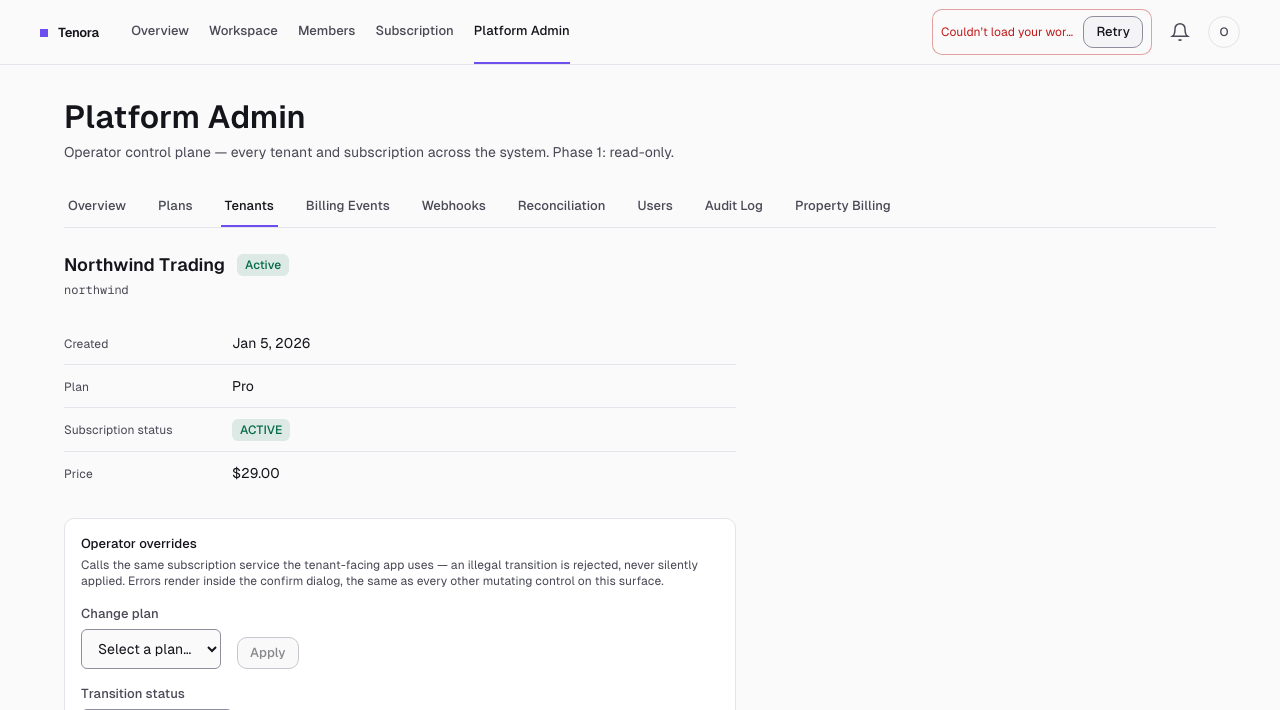
TenantDetailPage — subscription override controls (Phase 2) › canceling the confirm modal makes no request
Expected: the heading "Northwind Trading" is shown, [64,252,225,278]
Select "Team" in the dropdown labelled "Change plan": (151,649) [81,629,221,669]
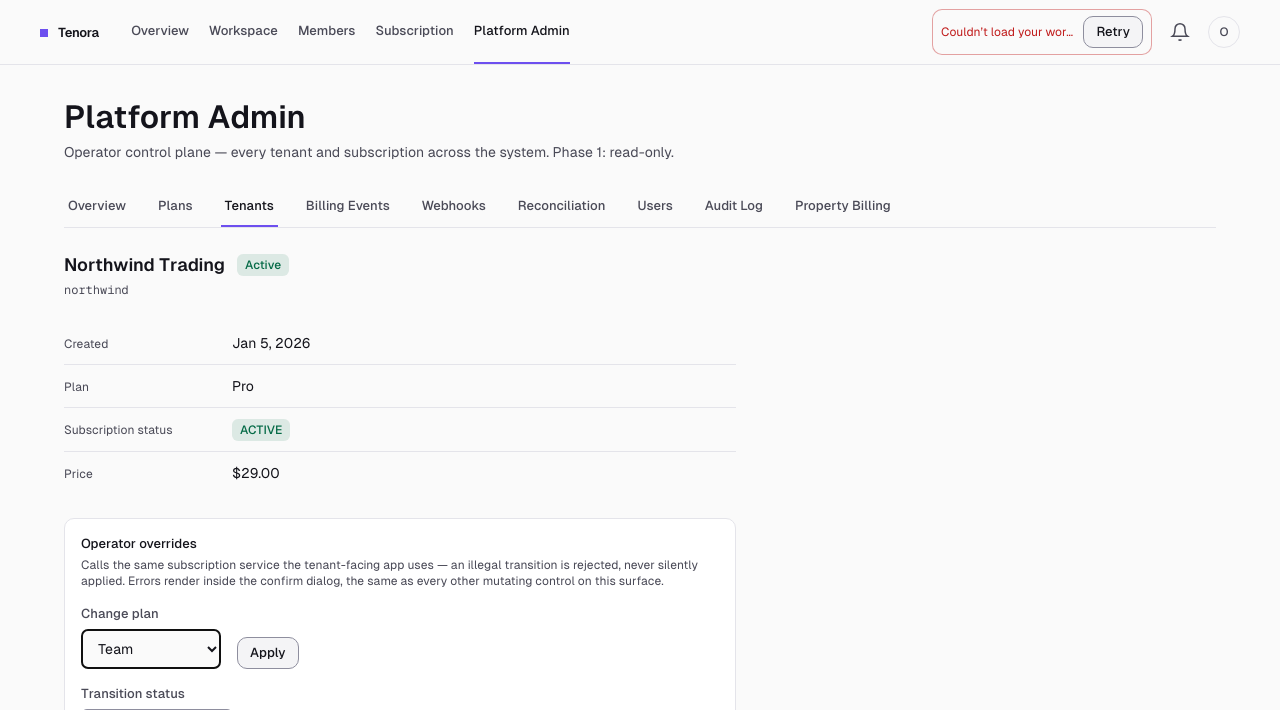
Click the button "Apply" below "Change plan": (268,653) [237,637,299,669]
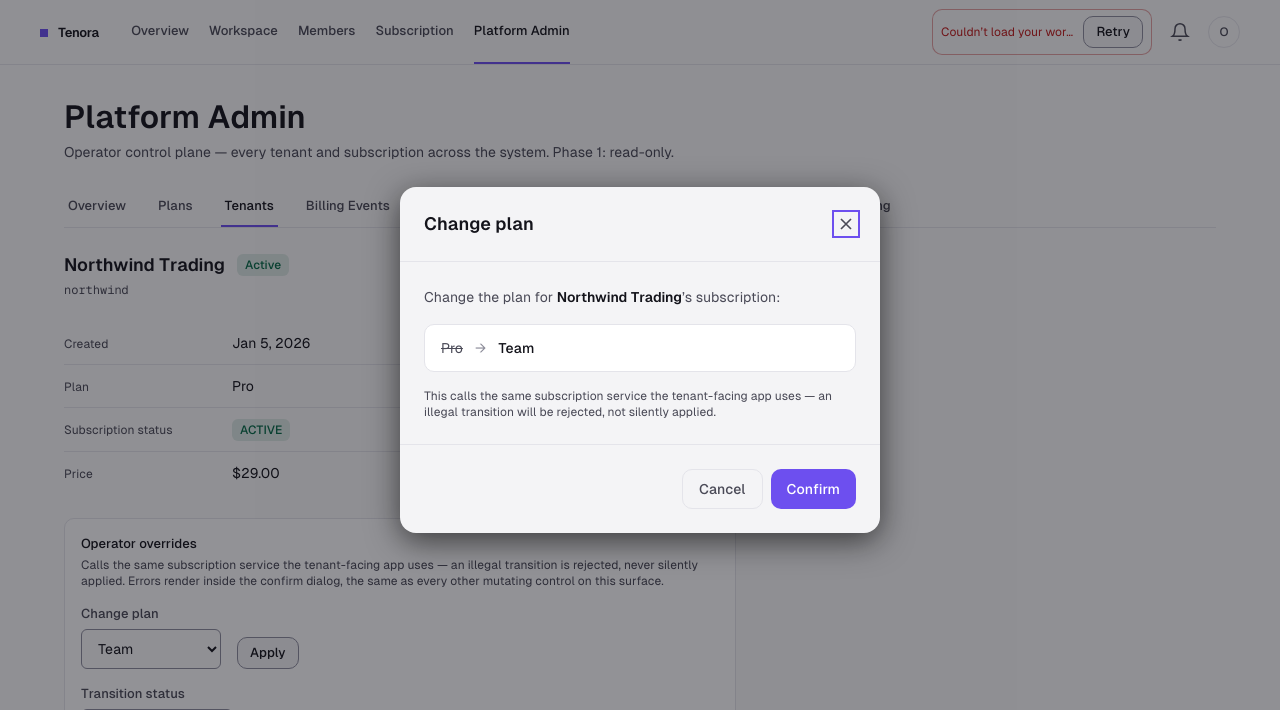
Expected: the dialog "Change plan" is shown, [400,187,880,533]
Click the button "Cancel": (722,489) [682,469,762,509]
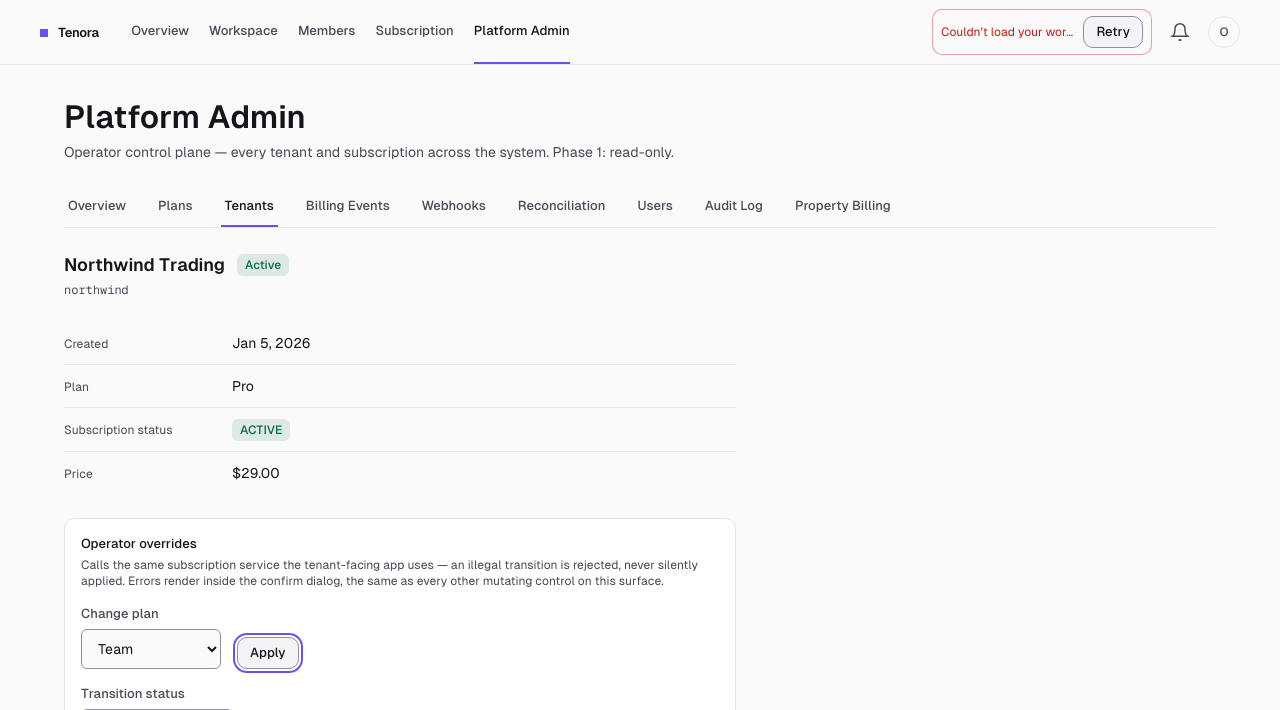
Expected: the dialog is gone
